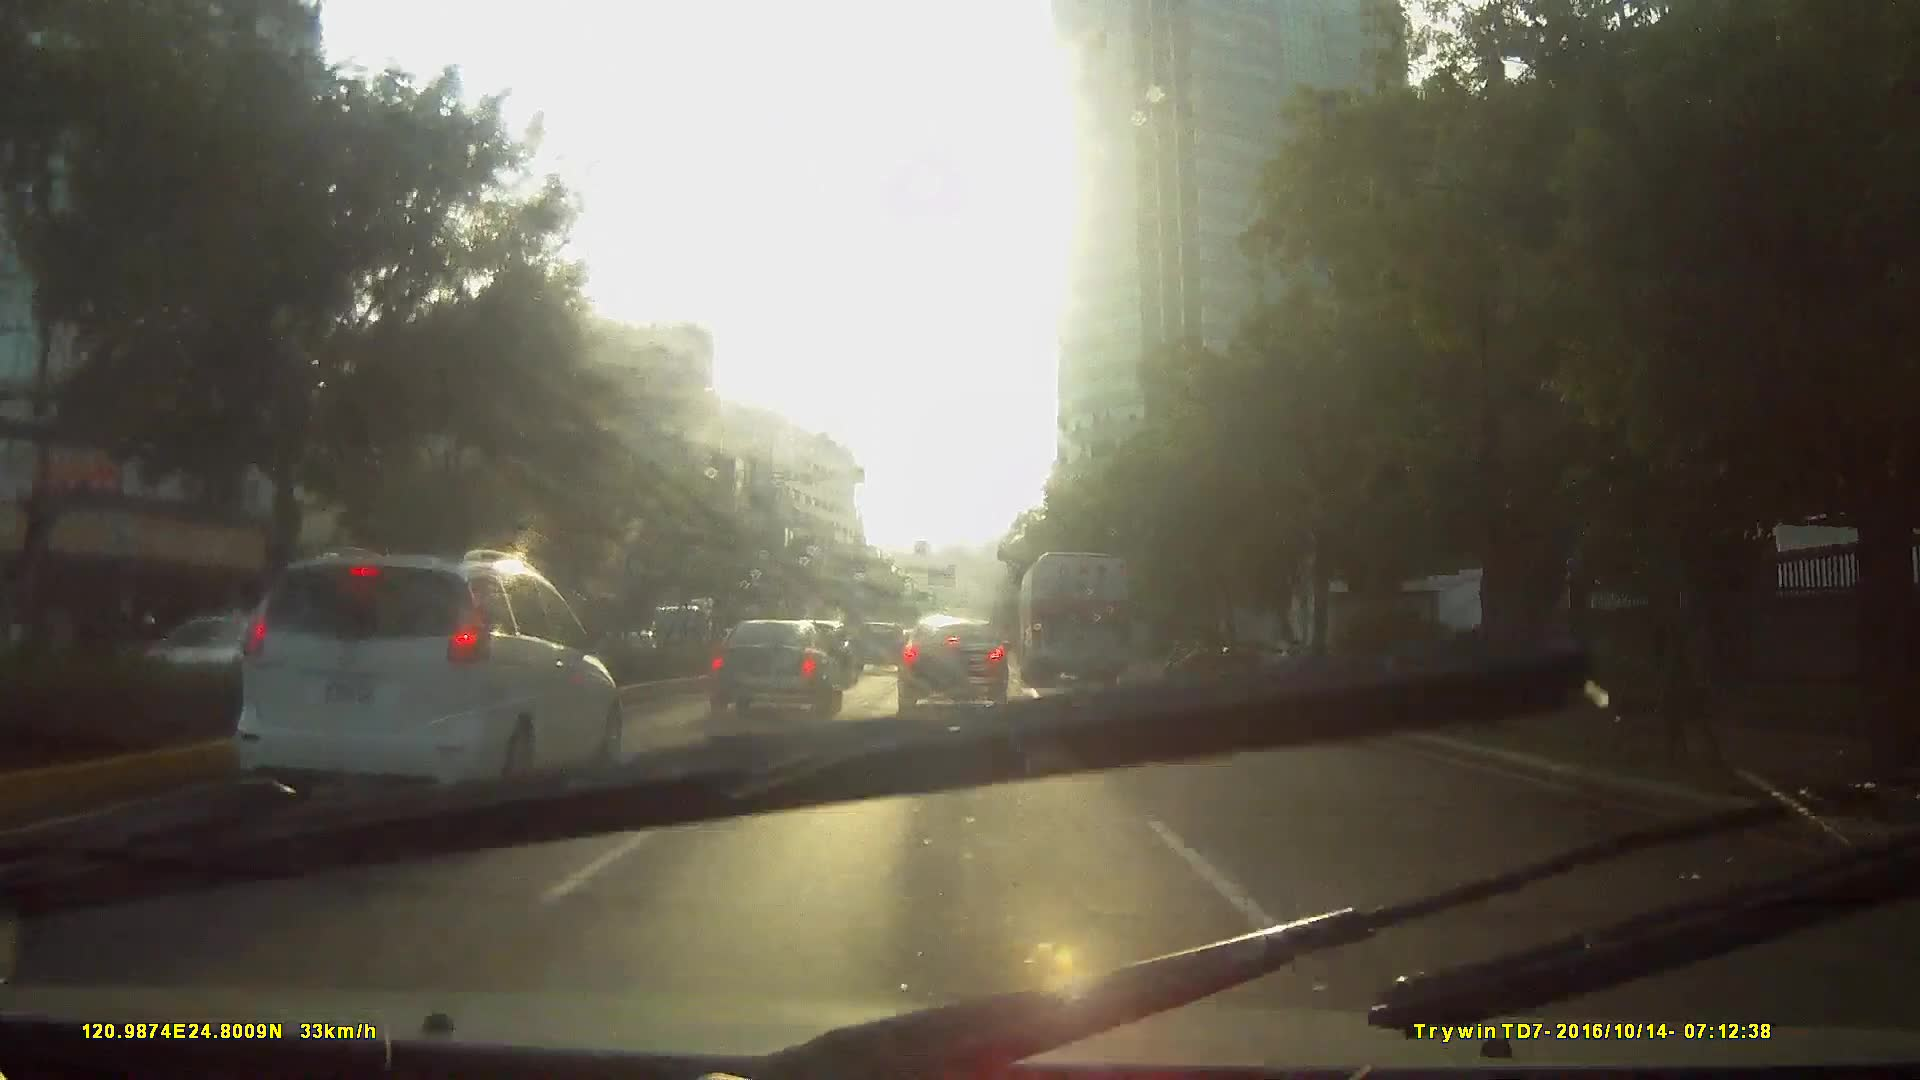vehicle: (251, 556, 684, 868), (207, 543, 632, 833), (1015, 546, 1134, 690), (703, 615, 845, 719), (895, 607, 1011, 716), (849, 615, 907, 675)
